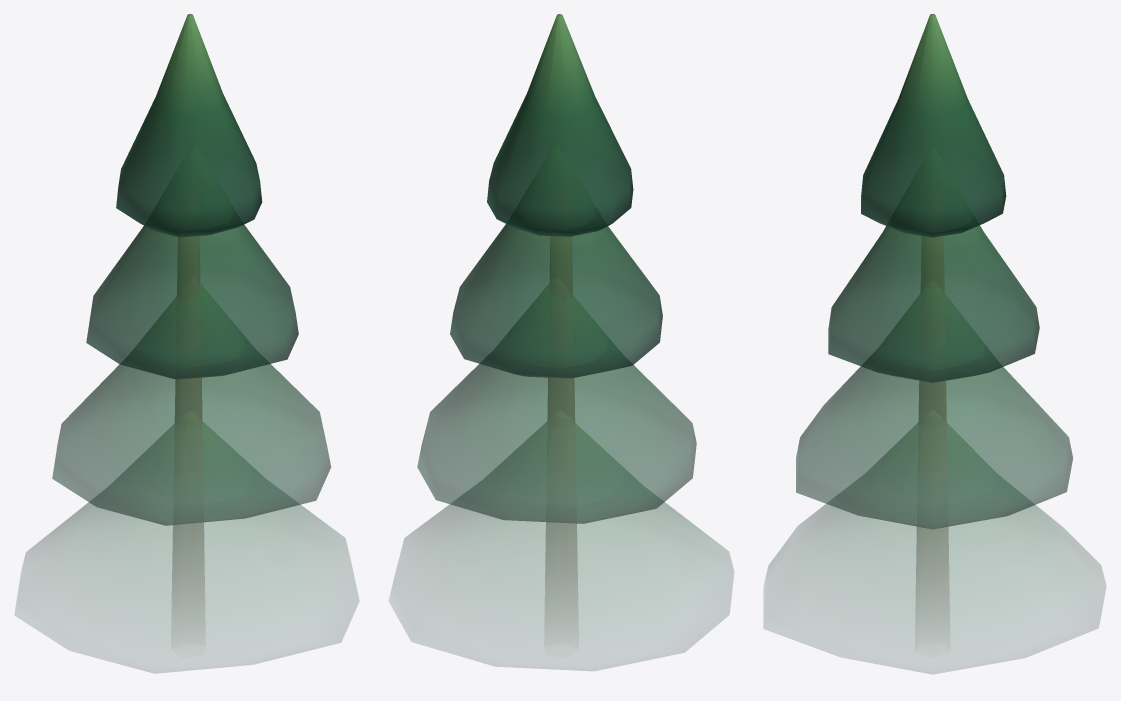
Rendered from tree_pine_1.glb.
3 renders of one model, left to right at view 1: azimuth 30°, elevation 25°; view 2: azimuth 150°, elevation 25°; view 3: azimuth 270°, elevation 25°, orthographic.
Parts seen in each view (by area): view 1: tree_pine_1; view 2: tree_pine_1; view 3: tree_pine_1.
Boxes of the visible parts, x1,y1,x2,y2 form: tree_pine_1: (15,14,358,672); tree_pine_1: (389,14,733,670); tree_pine_1: (764,14,1105,673).
Bounding box in the file's own units: 4.92 × 10 × 4.71.
